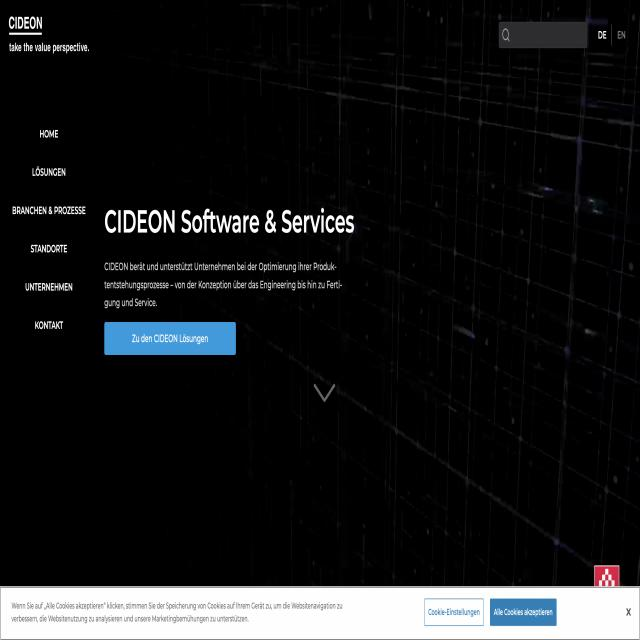Logo: (0, 0, 114, 58)
Navigation: (0, 105, 95, 398)
